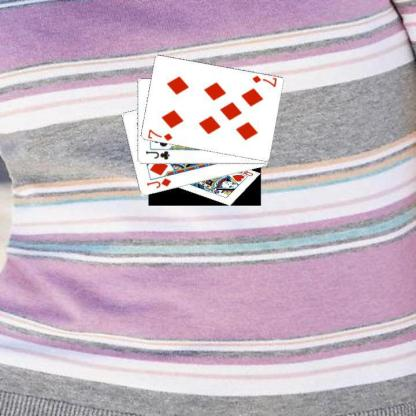7D: (146, 127, 173, 142), (249, 74, 277, 88)
JC: (143, 149, 170, 161)
JD: (144, 176, 172, 190)
